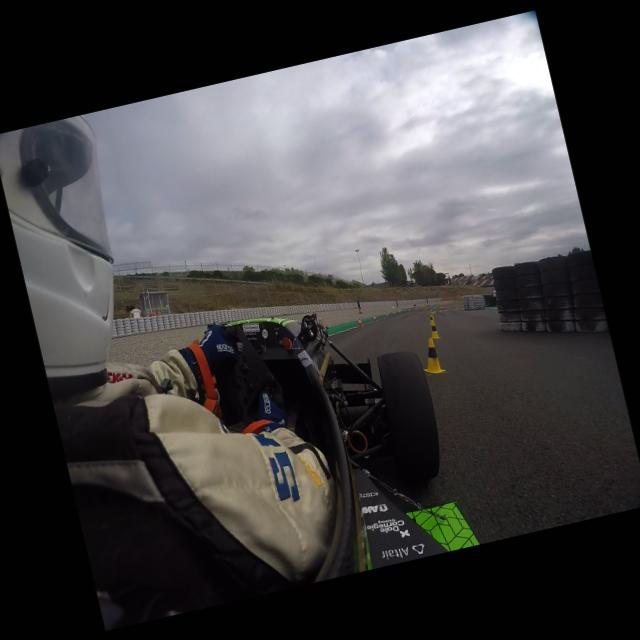orange_cone: (356, 318, 362, 328), (371, 314, 377, 322), (384, 312, 388, 318), (392, 310, 396, 316)
yellow_cone: (416, 338, 444, 377), (426, 321, 440, 342), (428, 316, 434, 324), (429, 312, 434, 320), (429, 308, 434, 314), (432, 308, 435, 312), (438, 307, 440, 312)
